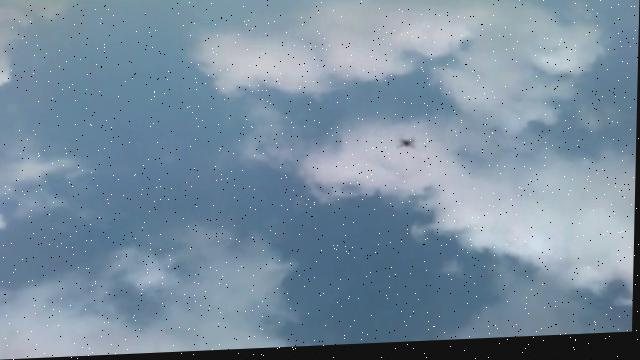drone: (395, 142, 420, 158)
